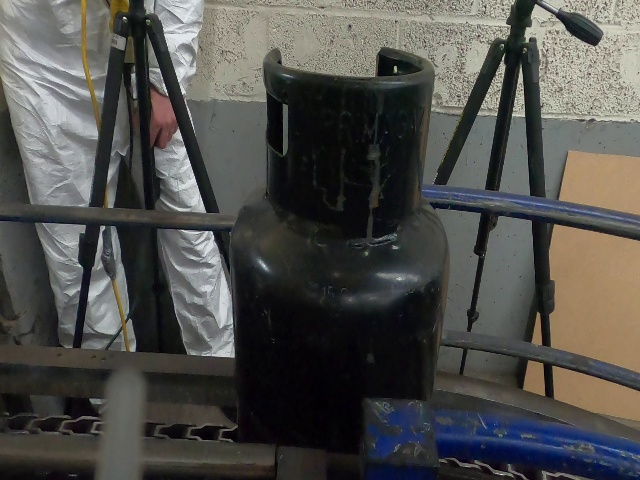gas_bottle: (6, 3, 639, 480)
